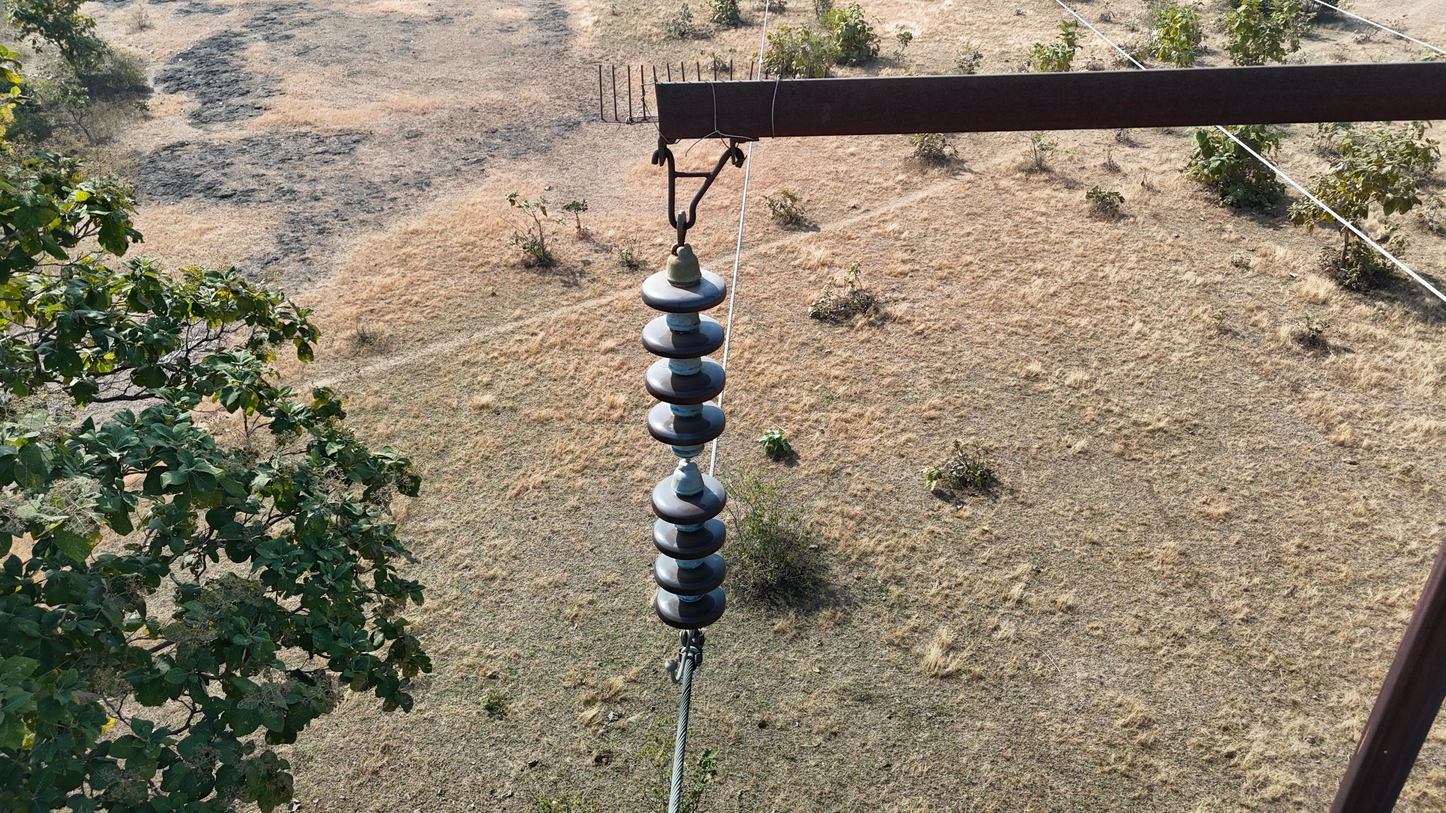broken_insulator: (644, 449, 729, 480), (667, 466, 670, 467)
